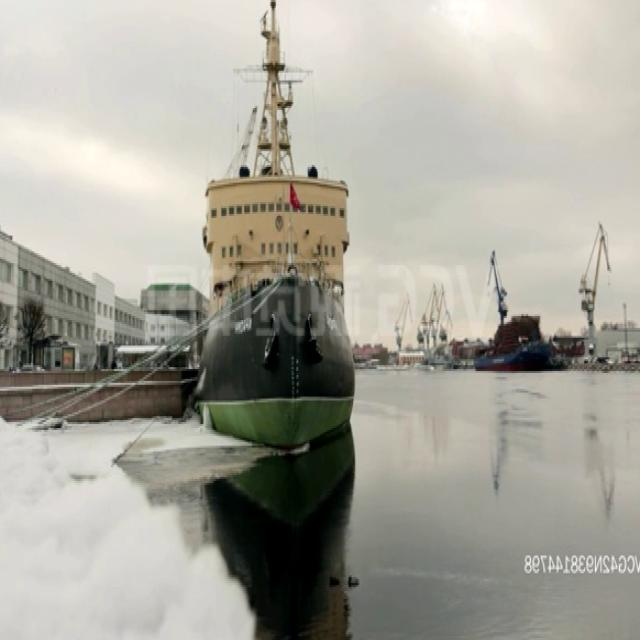navalvessels: (195, 0, 355, 446)
